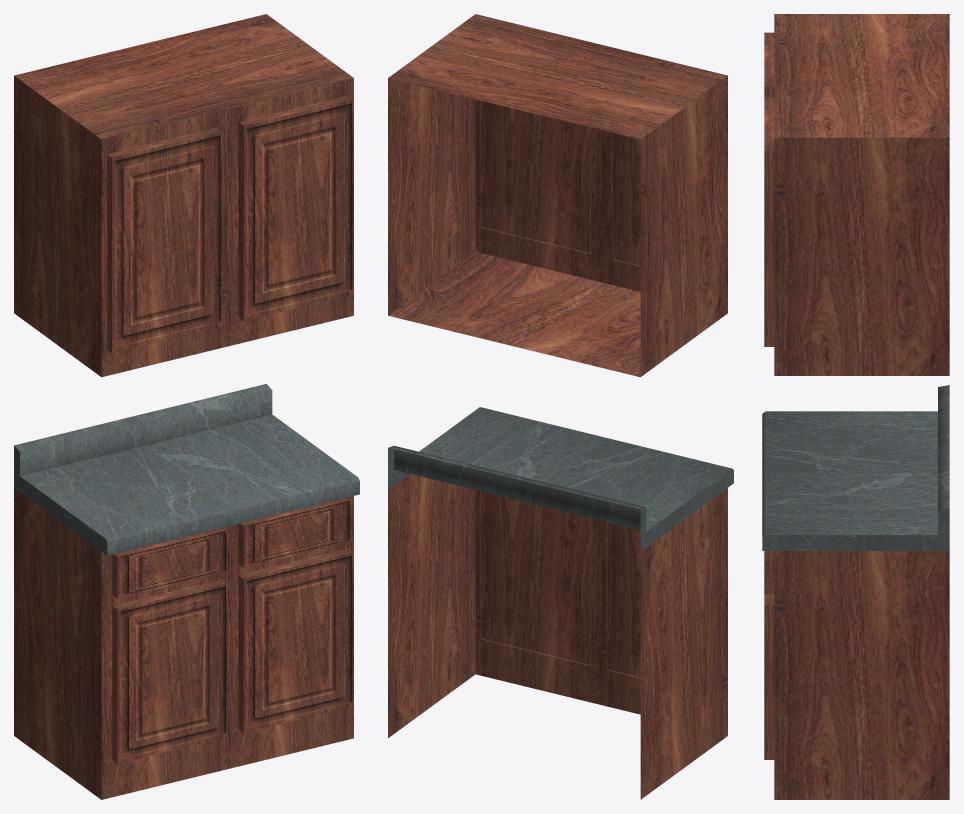
File: counter_cabinet.fbx
The picture shows the model from 3 angles, left to right: view 1: azimuth 30°, elevation 25°; view 2: azimuth 150°, elevation 25°; view 3: azimuth 270°, elevation 25°; orthographic projection.
Parts seen in each view (by area): view 1: mesh_0; view 2: mesh_0; view 3: mesh_0.
Part boxes in pixels (box(x1,y1,x2,y2)): mesh_0: box(14, 14, 359, 799); mesh_0: box(388, 14, 733, 799); mesh_0: box(762, 14, 949, 799).
Bounding box in the file's own units: 100 × 250 × 64.06.
Materials: 1 (1 with a texture image).
